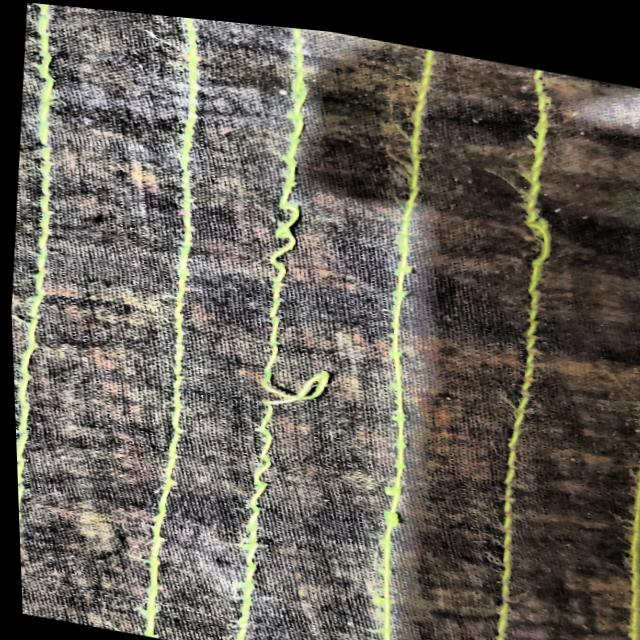Stitch: (238, 147, 316, 314), (239, 323, 337, 452)
